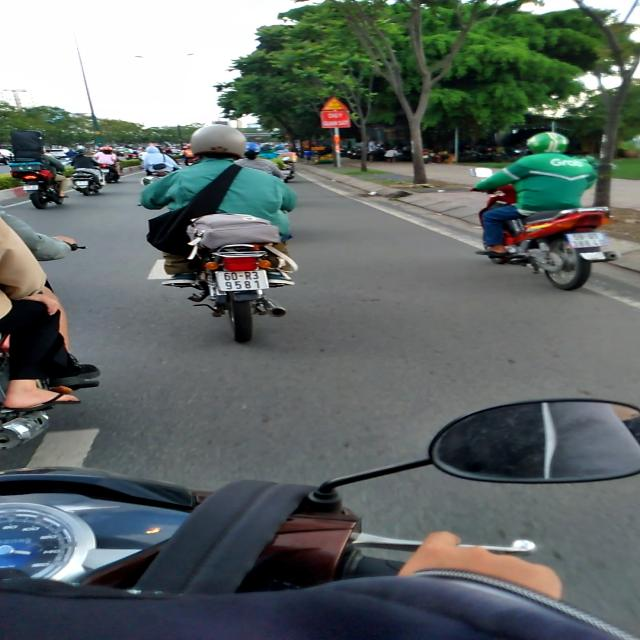W.245a: (321, 96, 349, 111)
